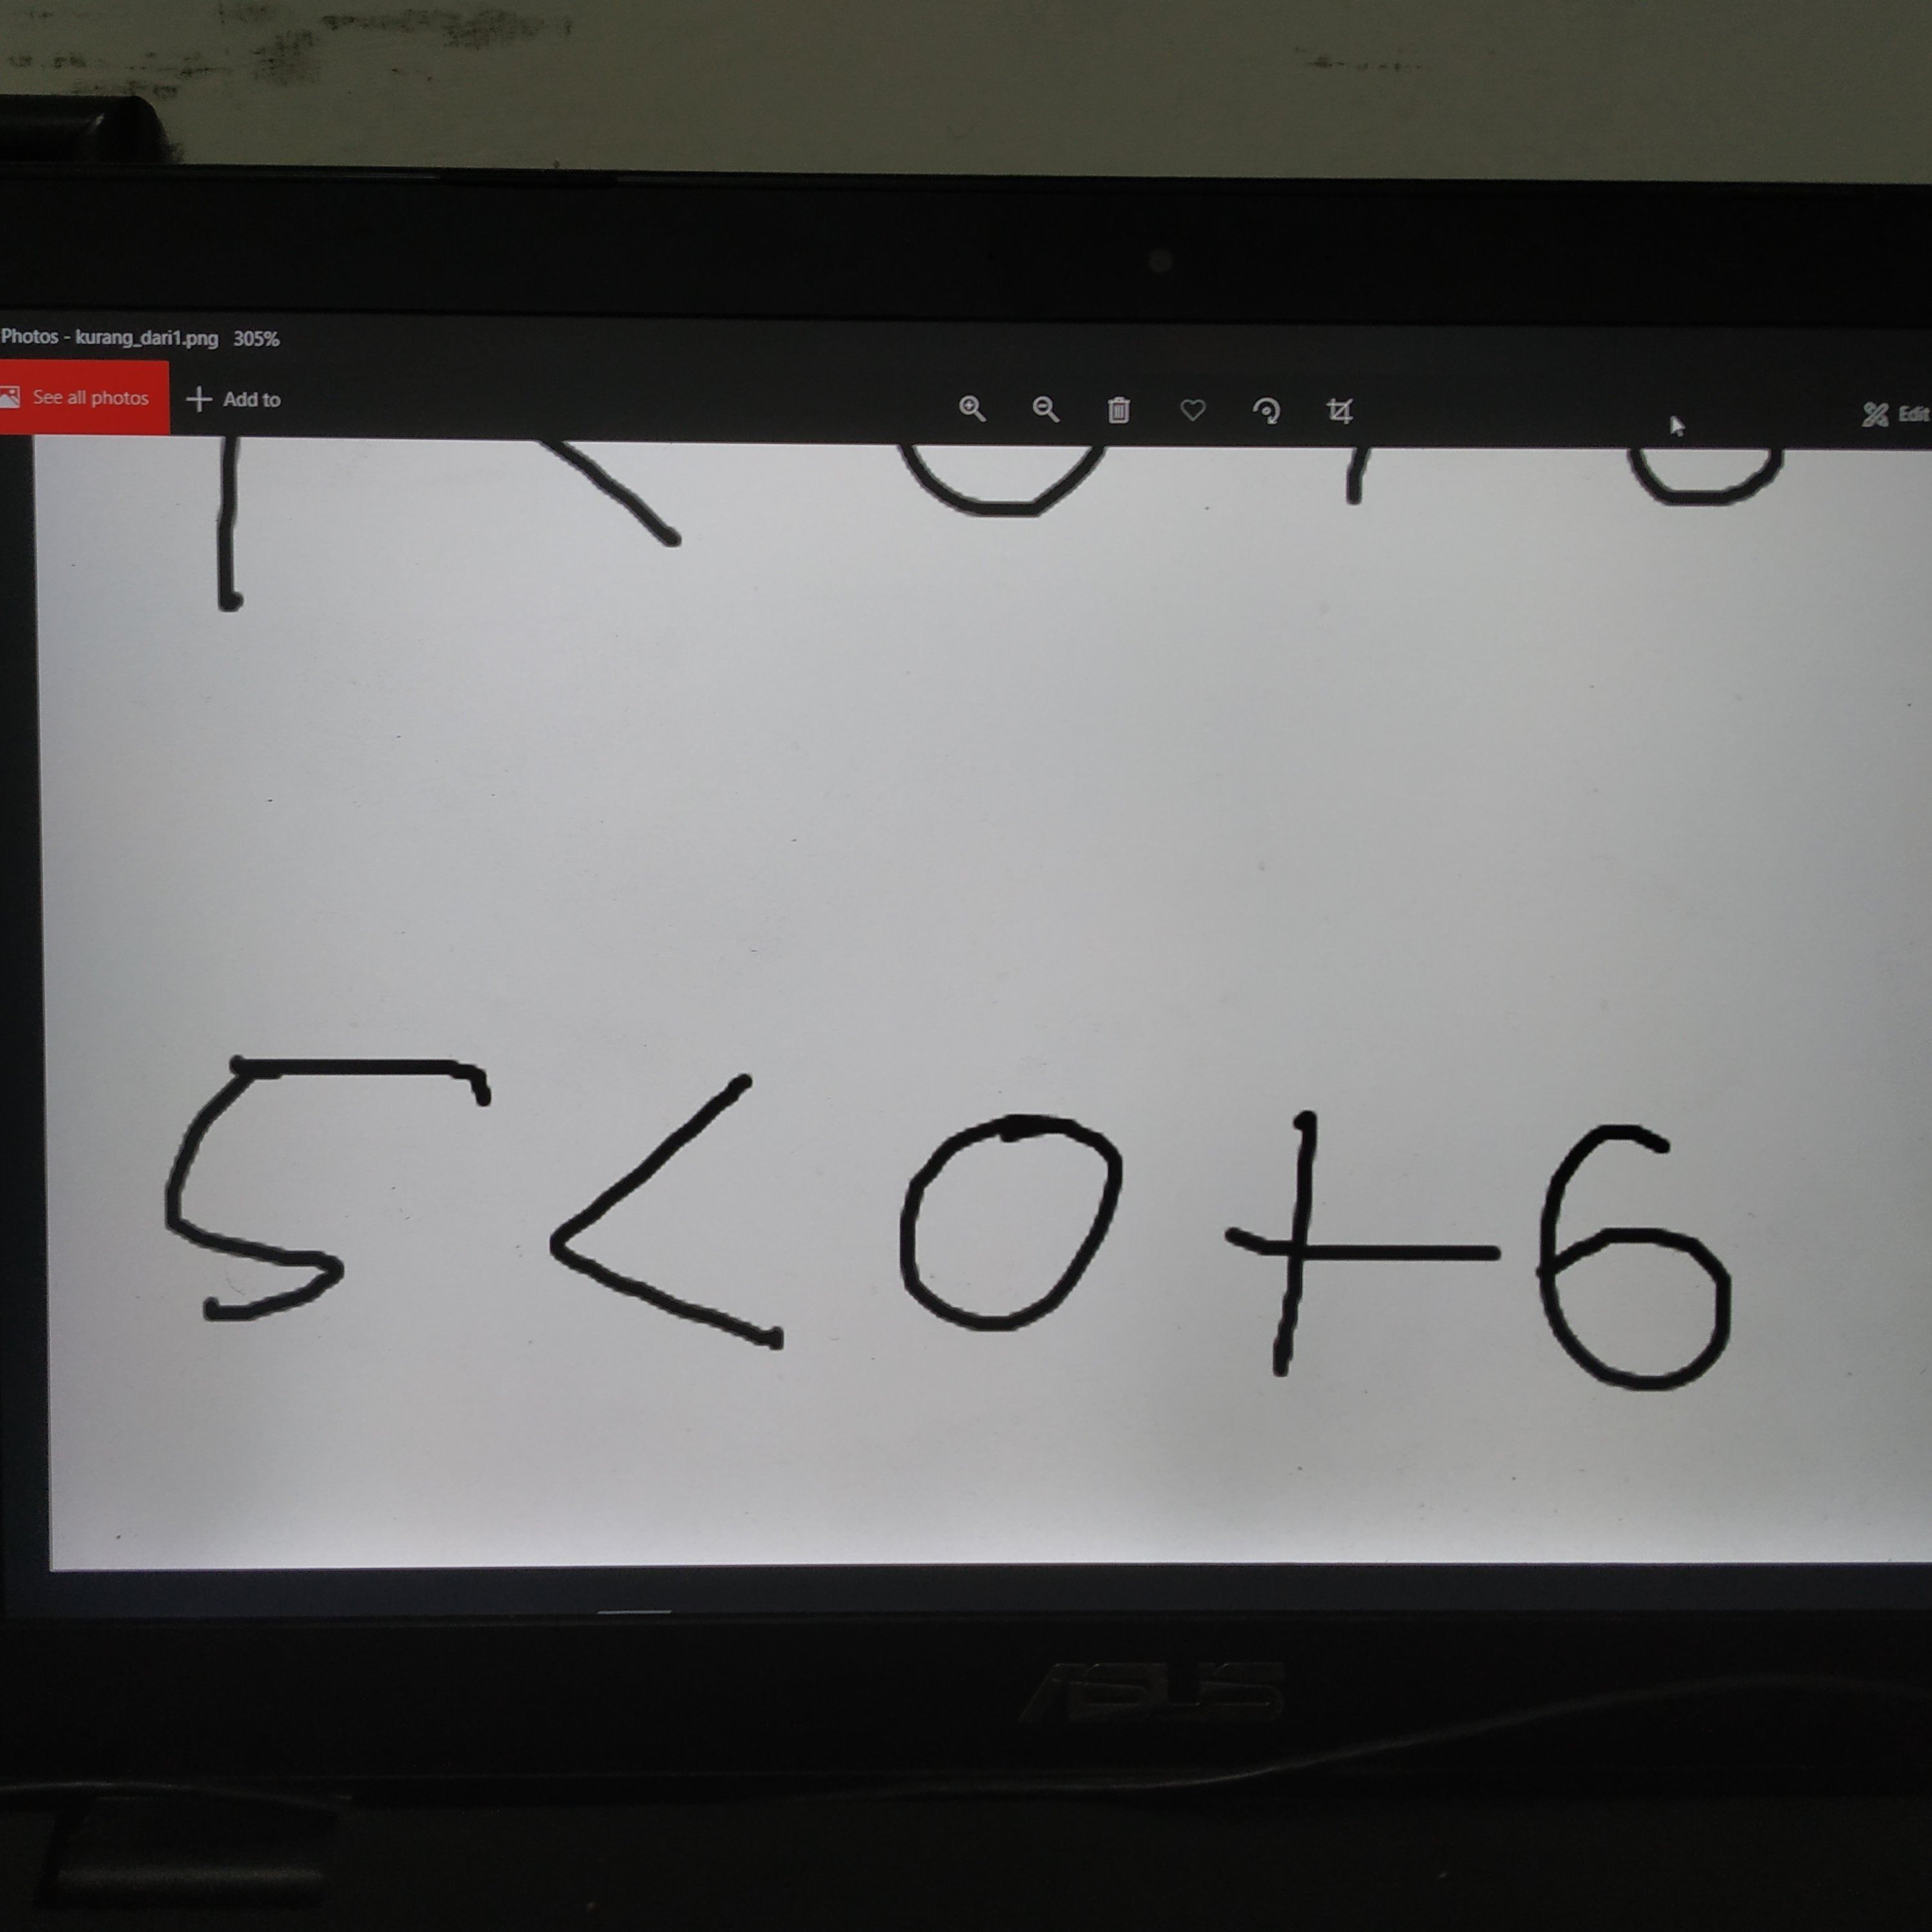lessthan: (531, 1056, 809, 1389)
num0: (898, 1084, 1137, 1356)
num5: (135, 1010, 512, 1342)
num6: (1529, 1104, 1747, 1401)
sum: (1203, 1079, 1517, 1405)
